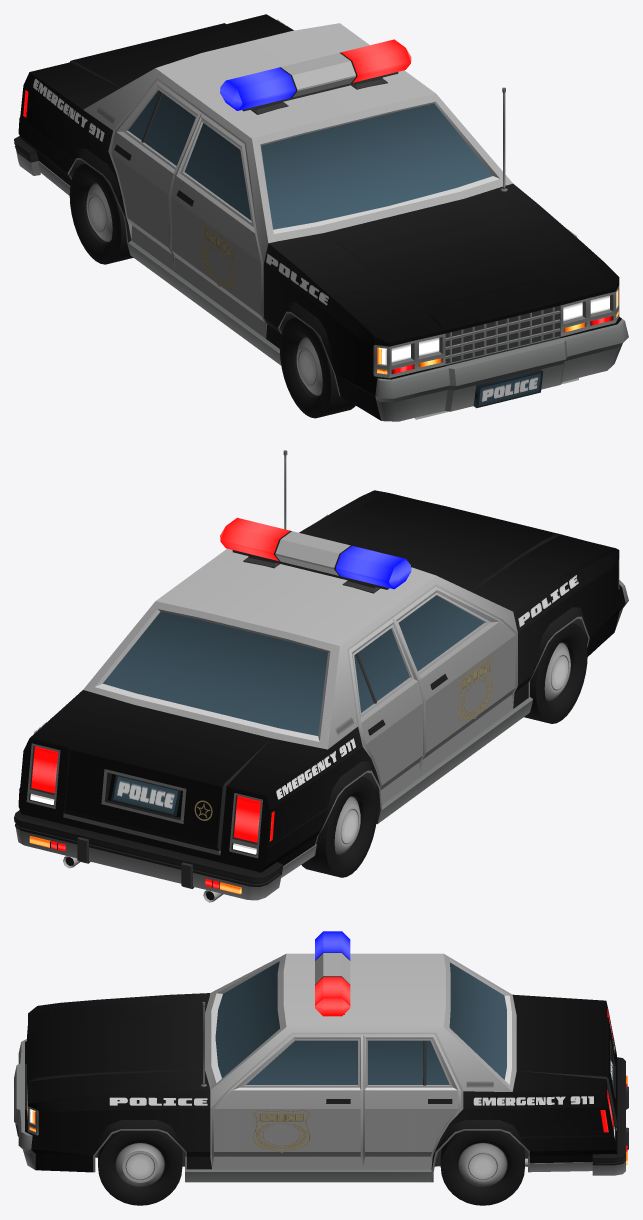
Rendered from car_police.fbx.
The picture shows the model from 3 angles, top to bottom: view 1: azimuth 30°, elevation 25°; view 2: azimuth 150°, elevation 25°; view 3: azimuth 270°, elevation 25°; orthographic projection. The views are drawn at different scales.
Parts seen in each view (by area): view 1: car_police, Wheel_F_R, Wheel_B_R; view 2: car_police, Wheel_B_R, Wheel_F_R; view 3: car_police, Wheel_B_L, Wheel_F_L.
Boxes of the visible parts, bbox=[...] form: car_police: bbox=[14, 14, 628, 421]; Wheel_F_R: bbox=[279, 317, 355, 418]; Wheel_B_R: bbox=[69, 163, 133, 264]; car_police: bbox=[14, 450, 628, 902]; Wheel_B_R: bbox=[301, 777, 377, 877]; Wheel_F_R: bbox=[524, 623, 587, 723]; car_police: bbox=[14, 931, 628, 1182]; Wheel_B_L: bbox=[440, 1130, 524, 1205]; Wheel_F_L: bbox=[98, 1130, 182, 1205].
Bounding box in the file's own units: 270 × 235 × 669.
